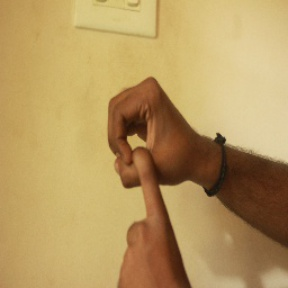Q: (87, 73, 204, 288)
